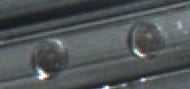joints: (29, 37, 70, 79), (127, 20, 165, 61)
